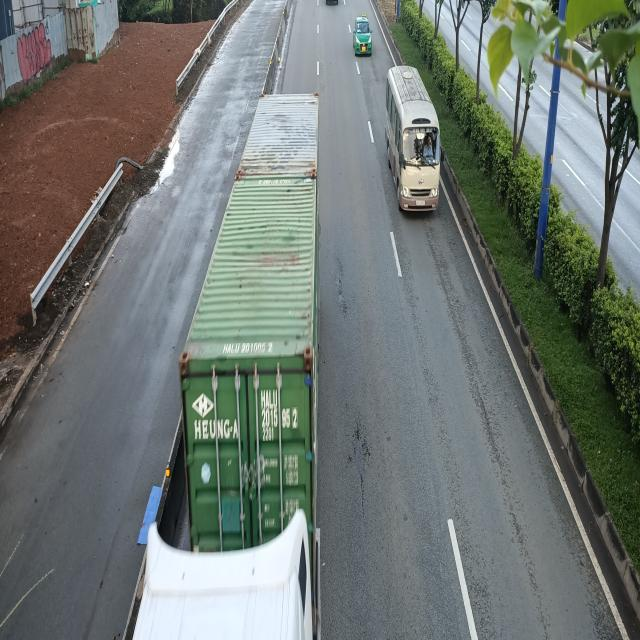car: (353, 15, 372, 56)
coach: (386, 65, 443, 215)
container: (132, 92, 321, 640)
